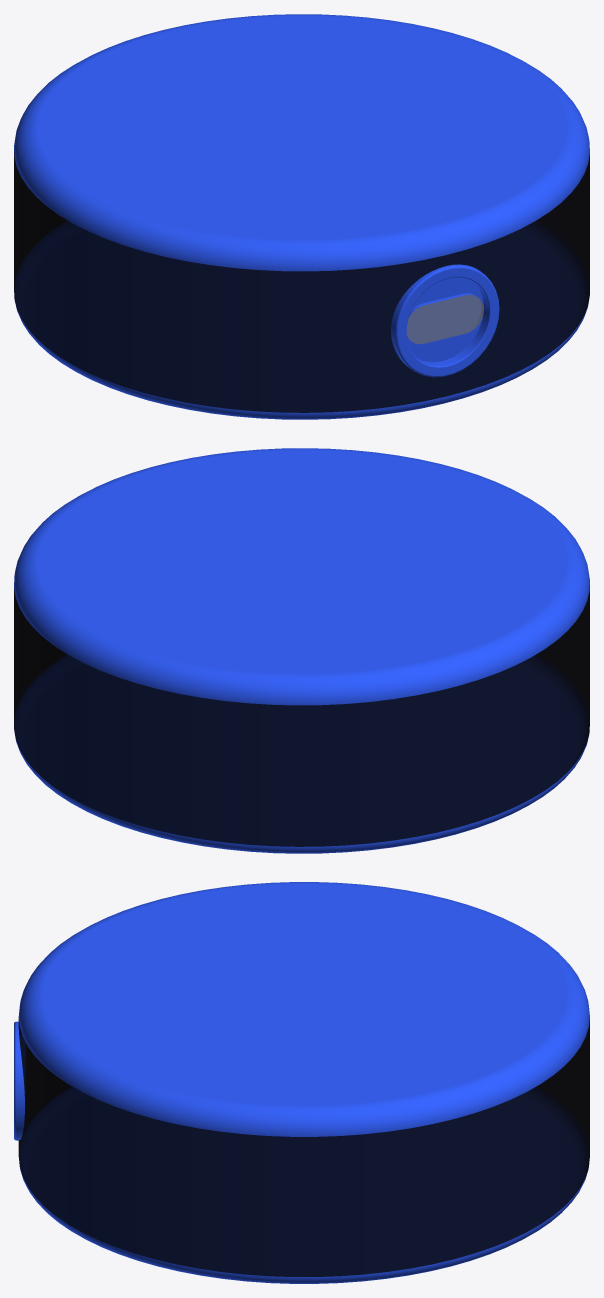
File: robmattest.obj
3 views of the same model, one above another, from view 1: azimuth 30°, elevation 25°; view 2: azimuth 150°, elevation 25°; view 3: azimuth 270°, elevation 25° (orthographic).
Parts seen in each view (by area): view 1: 3DGeom~3, 3DGeom~5, 3DGeom~6, 3DGeom~4, 3DGeom~7, 3DGeom~12, 3DGeom~8, 3DGeom~2, 3DGeom~10, 3DGeom~1, 3DGeom~9; view 2: 3DGeom~3, 3DGeom~5, 3DGeom~6, 3DGeom~4, 3DGeom~7; view 3: 3DGeom~3, 3DGeom~5, 3DGeom~6, 3DGeom~4, 3DGeom~7, 3DGeom~9.
Part boxes in pixels (x1,y1,x2,y2): 3DGeom~3: [38, 16, 565, 239]; 3DGeom~5: [14, 151, 589, 412]; 3DGeom~6: [14, 14, 589, 271]; 3DGeom~4: [27, 233, 577, 412]; 3DGeom~7: [14, 222, 589, 419]; 3DGeom~12: [406, 294, 483, 344]; 3DGeom~8: [398, 268, 498, 375]; 3DGeom~2: [407, 277, 483, 362]; 3DGeom~10: [395, 265, 499, 377]; 3DGeom~1: [417, 282, 489, 366]; 3DGeom~9: [391, 264, 481, 366]; 3DGeom~3: [38, 450, 565, 673]; 3DGeom~5: [14, 585, 589, 846]; 3DGeom~6: [14, 448, 589, 705]; 3DGeom~4: [26, 666, 576, 846]; 3DGeom~7: [14, 655, 589, 853]; 3DGeom~3: [42, 884, 566, 1105]; 3DGeom~5: [18, 1017, 589, 1276]; 3DGeom~6: [18, 882, 589, 1136]; 3DGeom~4: [31, 1100, 576, 1276]; 3DGeom~7: [20, 1088, 588, 1283]; 3DGeom~9: [16, 1021, 24, 1140].
Size of the model in its own units: 0.8918 by 0.2975 by 0.9.
